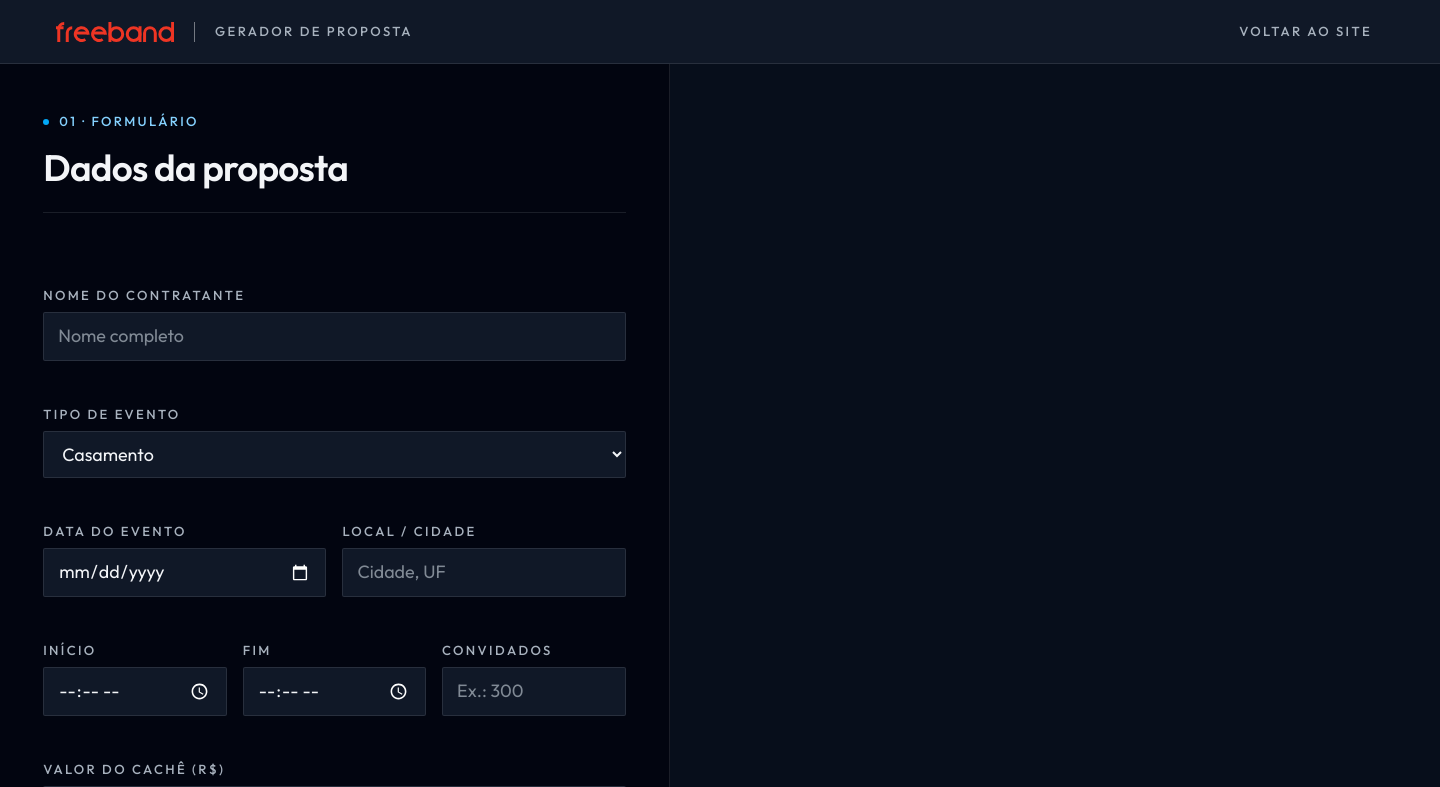
Test: orçamento editor: clearing the form › offers to undo a clear and puts the proposal back
The width and height of the screenshot is (1440, 787).
Type "Prefeitura de Jaú" into the field labelled "Nome do Contratante" at (334, 336), box [43,312,626,361]
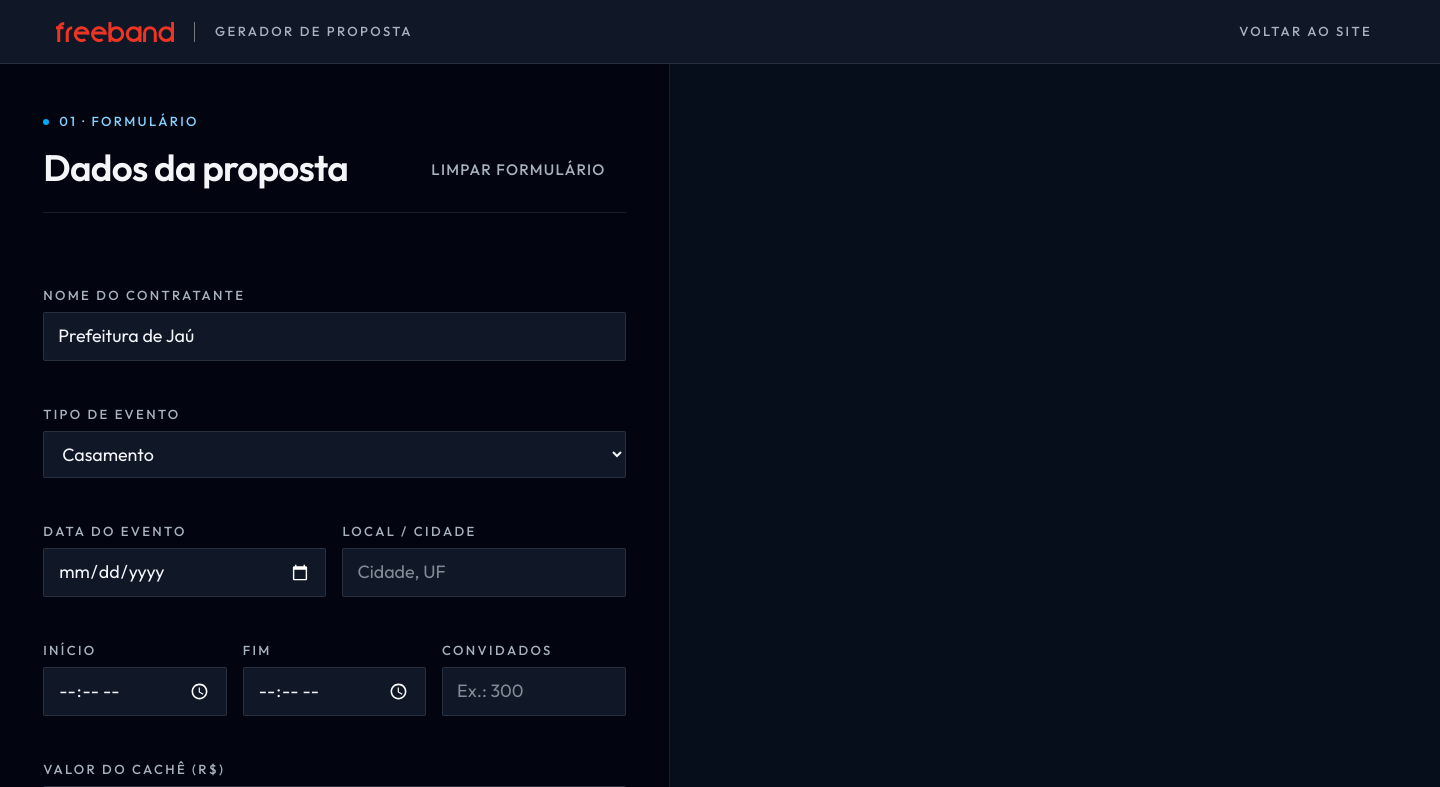
Click the button "Limpar formulário" at (518, 169), box [411,146,626,192]
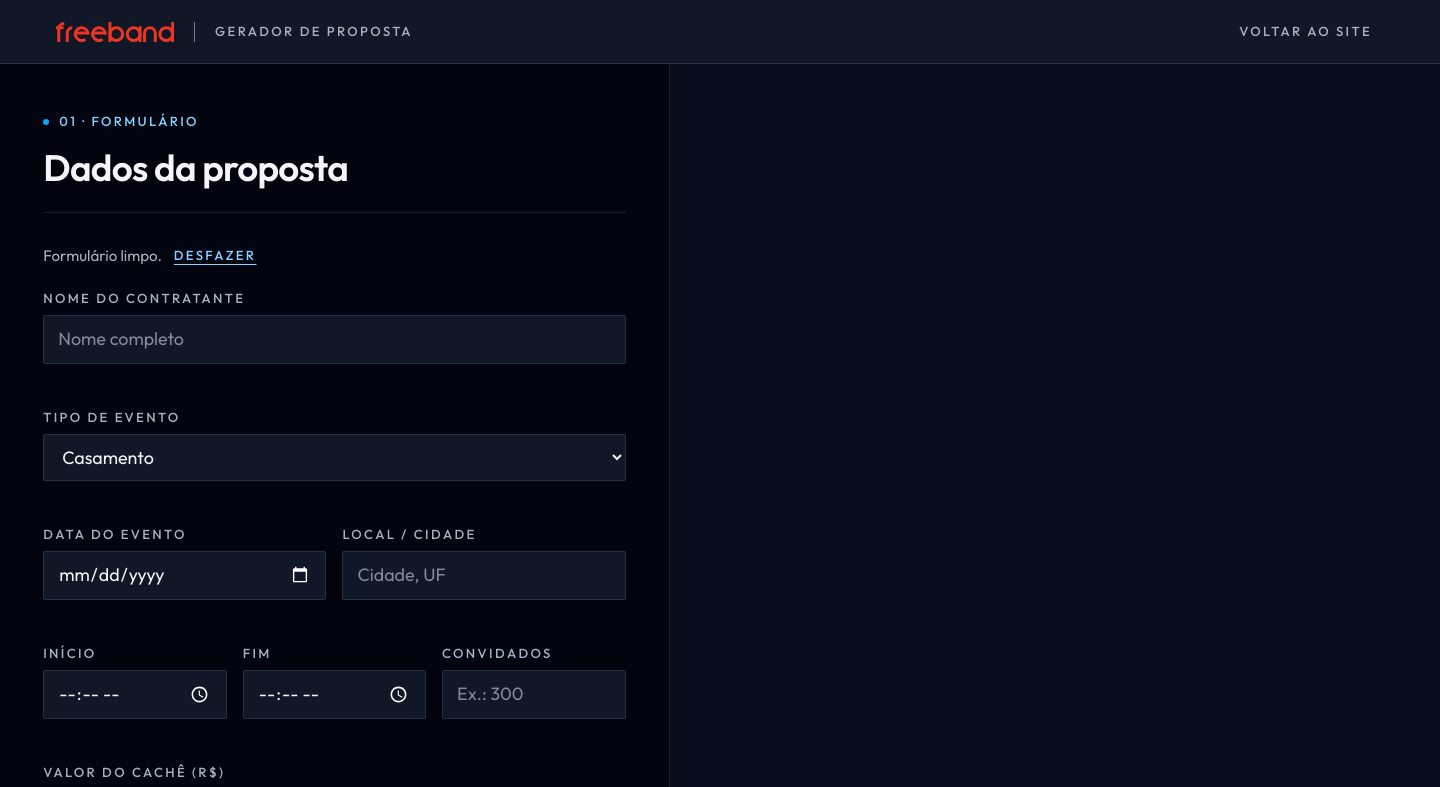
Result: the field labelled "Nome do Contratante" is empty at [43,315,626,364]
Result: the text "Formulário limpo." is shown at [43,246,162,265]
Click the button "Desfazer" at (215, 256), box [174,248,256,264]
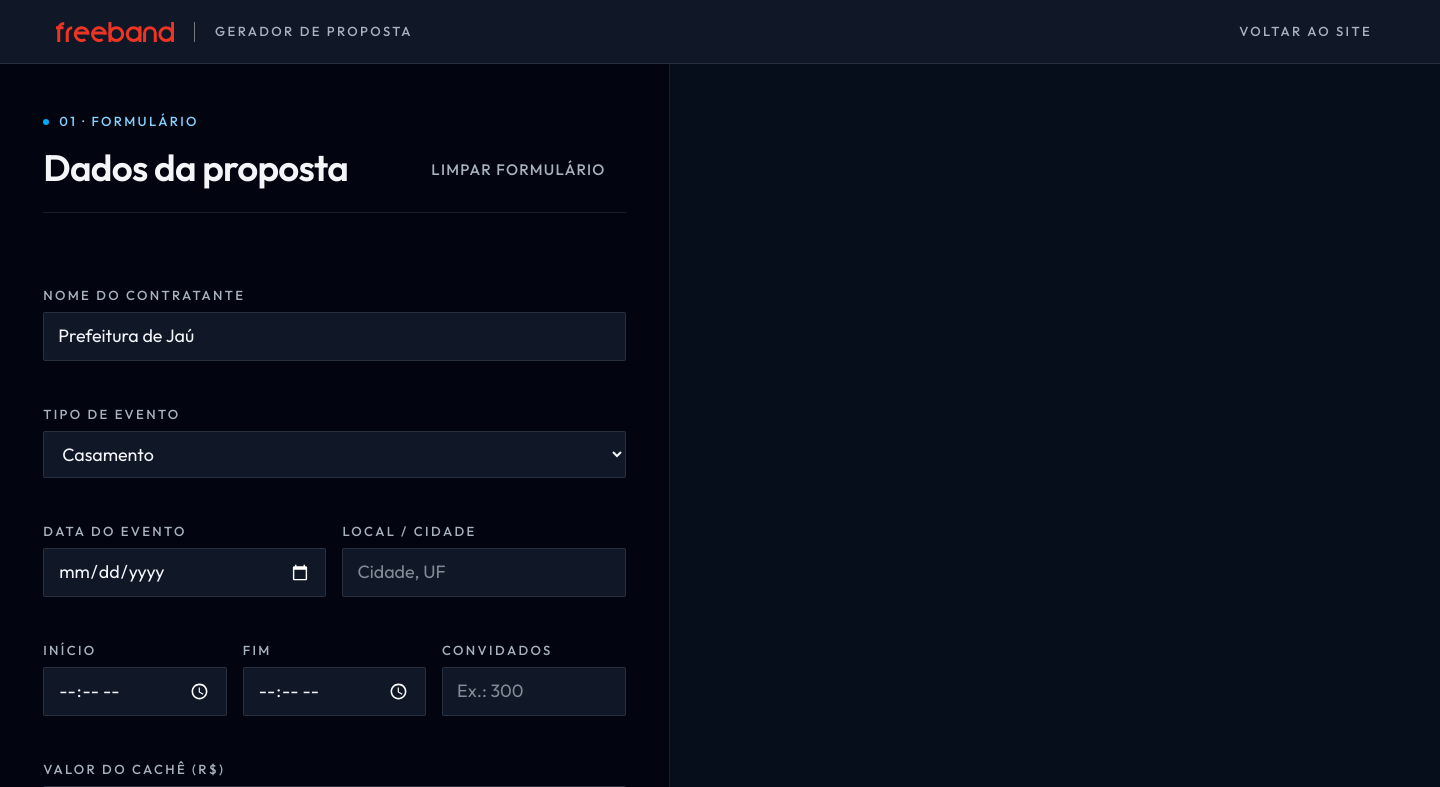
Result: the button "Desfazer" is gone
